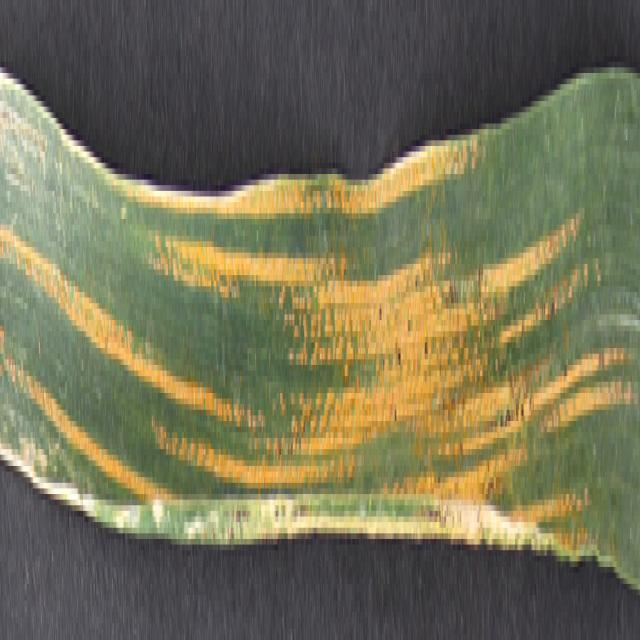leaf rust: (1, 34, 634, 572)
